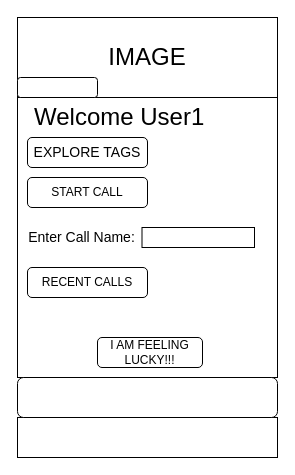
Image size: 295x475. Some labels were removed from this diagram. The centre of each missing label's shape, as x and y in pixels:
"About us" goes at point (147, 397).
"All rights reserved 2021." goes at point (147, 437).
"LOGO" goes at point (57, 87).
